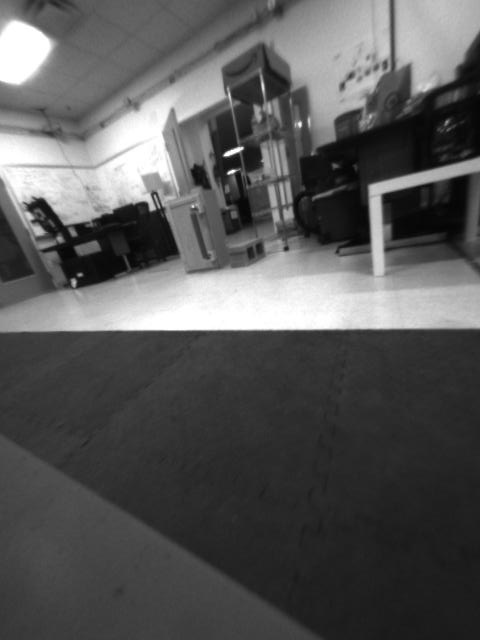coffee_pot: (422, 81, 476, 163)
